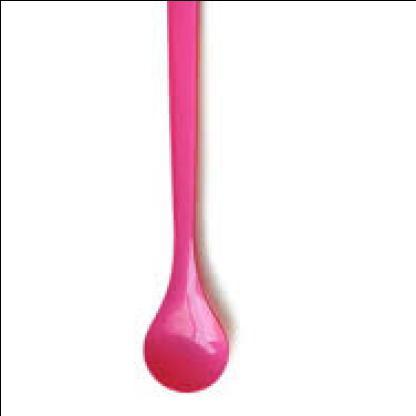Others: (140, 2, 228, 396)
